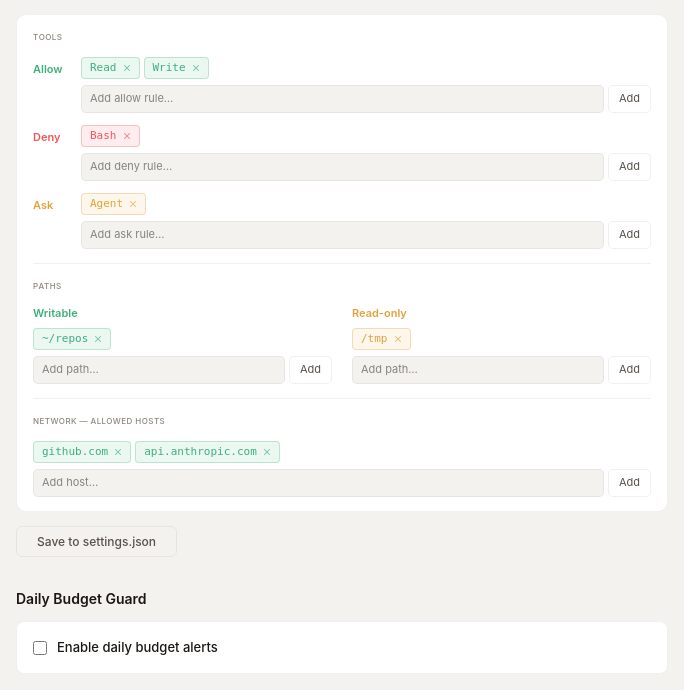
Scenario: PermissionsPage — add/remove items › removes a host chip when x button is clicked
(page scrolled)
Expected: the text "github.com" is shown, top-left (33, 441), bottom-right (131, 463)
Click the button named "Remove github.com" at (118, 452), box top-left (113, 447), bottom-right (123, 457)
(page scrolled)
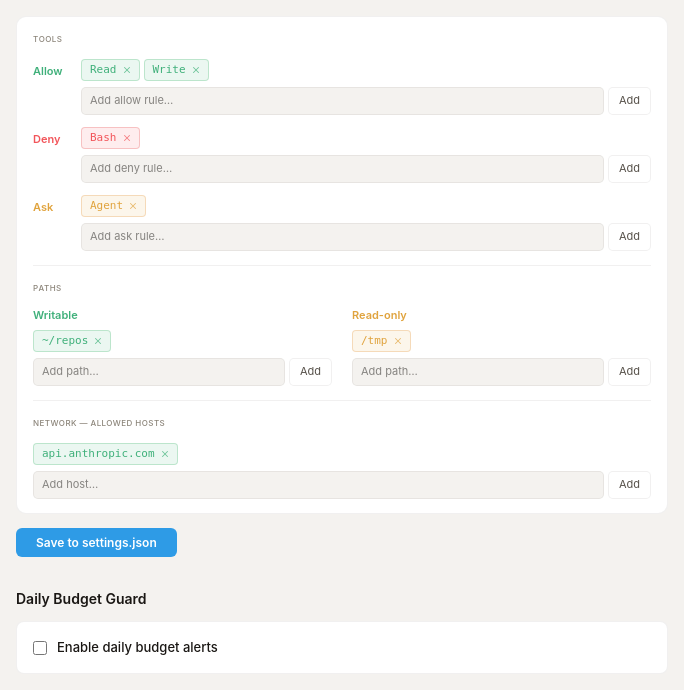
Expected: the text "github.com" is gone
